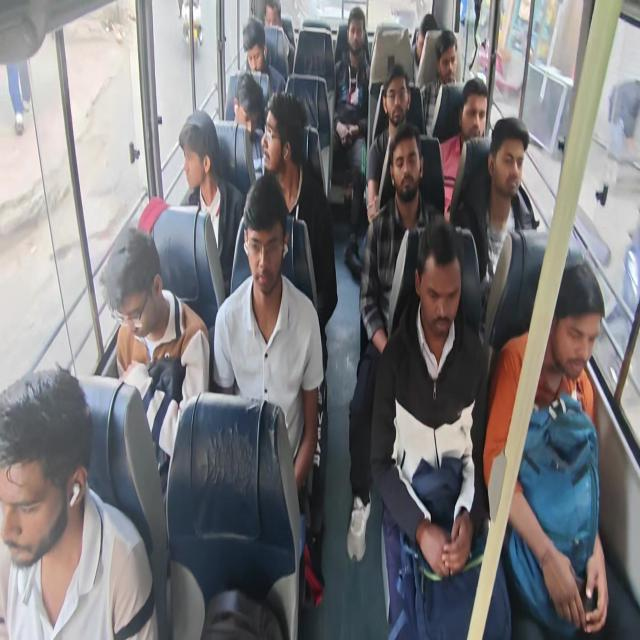person: (369, 216, 512, 638), (483, 258, 609, 638), (0, 365, 159, 639), (346, 123, 444, 562), (212, 174, 324, 496), (102, 226, 210, 504), (260, 91, 338, 378), (448, 116, 539, 341), (359, 122, 444, 357), (178, 110, 245, 296), (332, 6, 371, 279), (365, 64, 421, 224), (439, 76, 489, 219), (421, 29, 461, 136), (241, 18, 286, 98), (263, 0, 295, 75), (233, 71, 264, 134), (411, 13, 438, 85)
